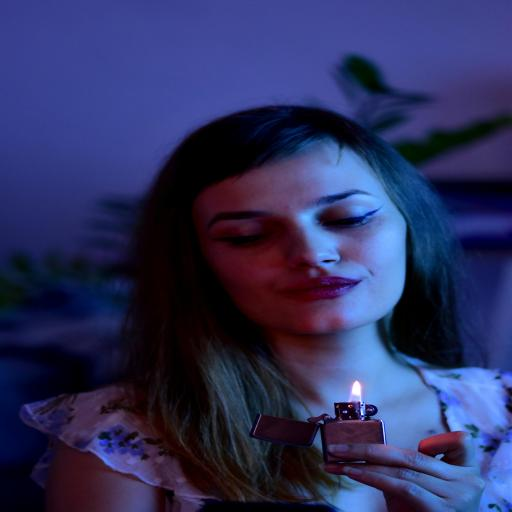lighter: (233, 382, 426, 466)
